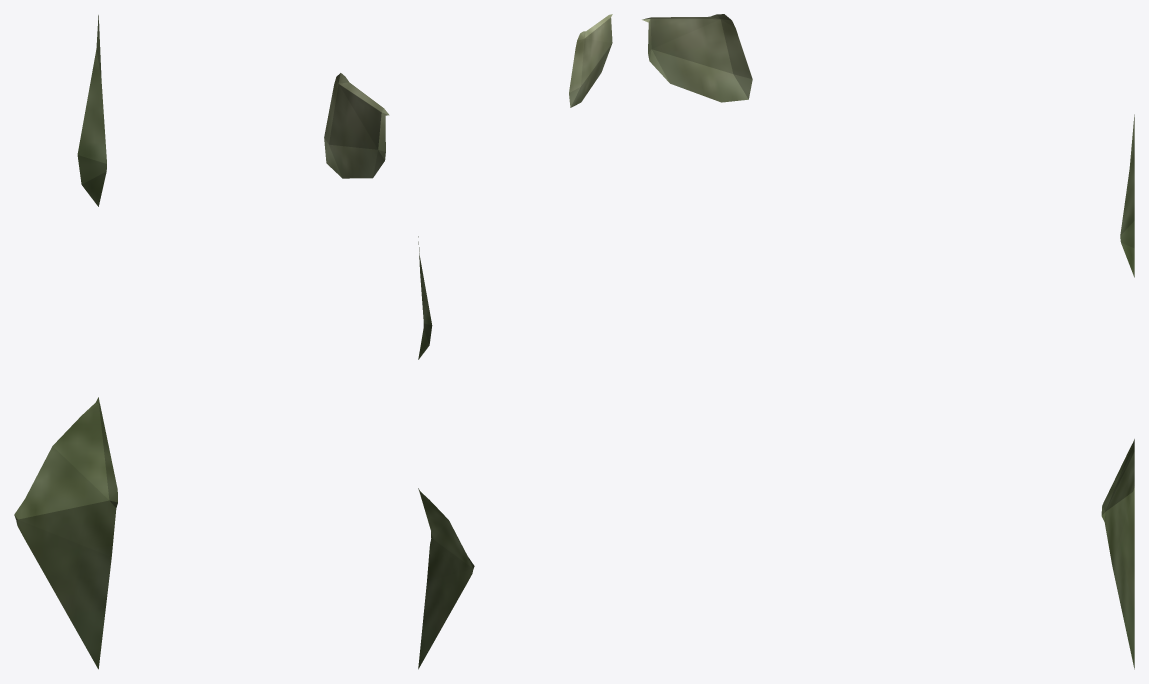
3 renders of one model, left to right at view 1: azimuth 30°, elevation 25°; view 2: azimuth 150°, elevation 25°; view 3: azimuth 270°, elevation 25°, orthographic. The views are drawn at different scales.
Bounding box in the file's own units: 0.2339 × 2.05 × 1.4.
1 material, 1 textured.
